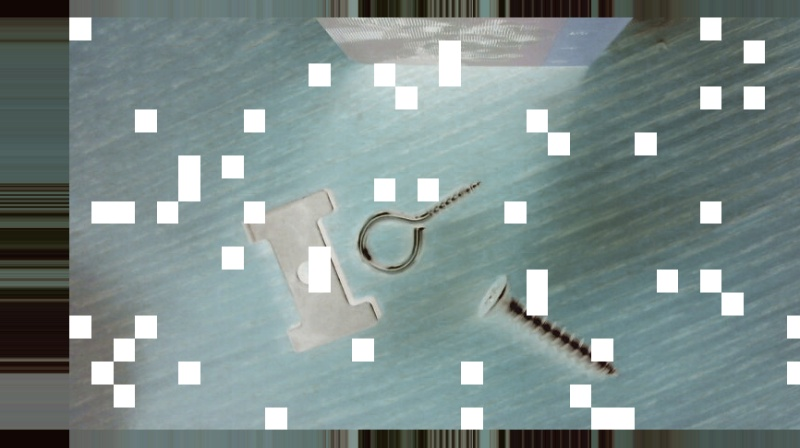O001: (354, 177, 484, 277)
O002: (239, 185, 382, 355)
S001: (476, 271, 625, 380)
